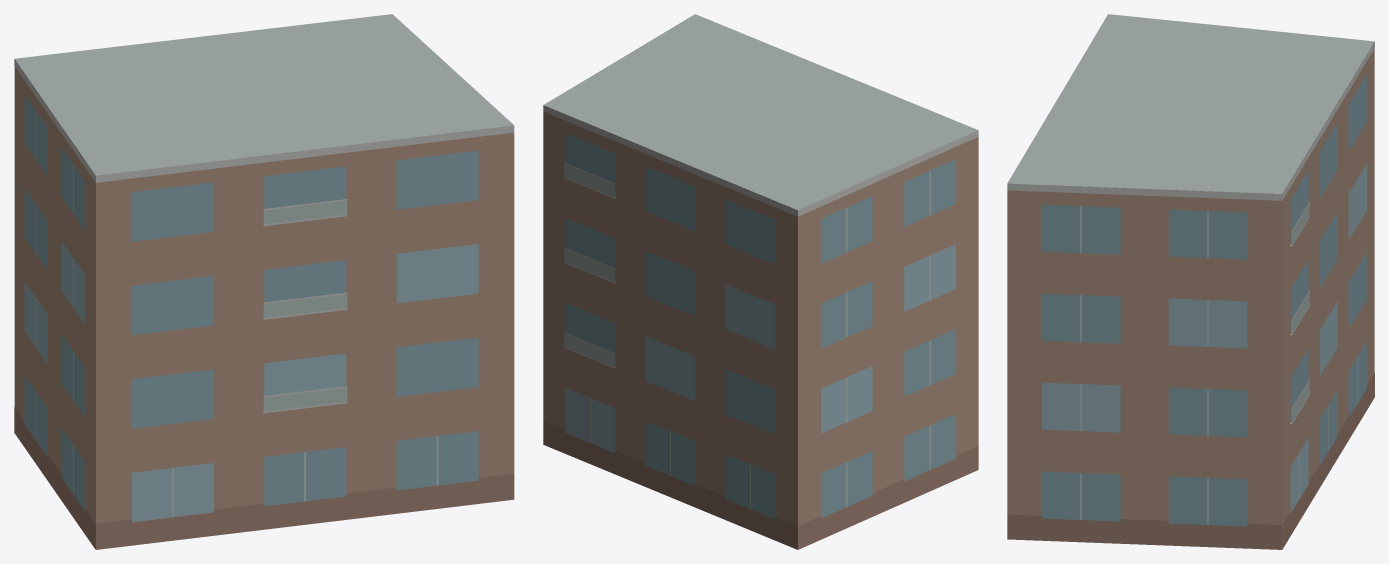
The model's file is survey-upis-32616694.glb.
The picture shows the model from 3 angles, left to right: view 1: azimuth 30°, elevation 25°; view 2: azimuth 150°, elevation 25°; view 3: azimuth 270°, elevation 25°; orthographic projection. The views are drawn at different scales.
Parts seen in each view (by area): view 1: survey-upis-32616694.tmp; view 2: survey-upis-32616694.tmp; view 3: survey-upis-32616694.tmp.
Part boxes in pixels (x1=…): survey-upis-32616694.tmp: x1=14, y1=14, x2=514, y2=549; survey-upis-32616694.tmp: x1=543, y1=14, x2=978, y2=549; survey-upis-32616694.tmp: x1=1007, y1=14, x2=1374, y2=549.
Size of the model in its own units: 13.91 by 12.8 by 12.
